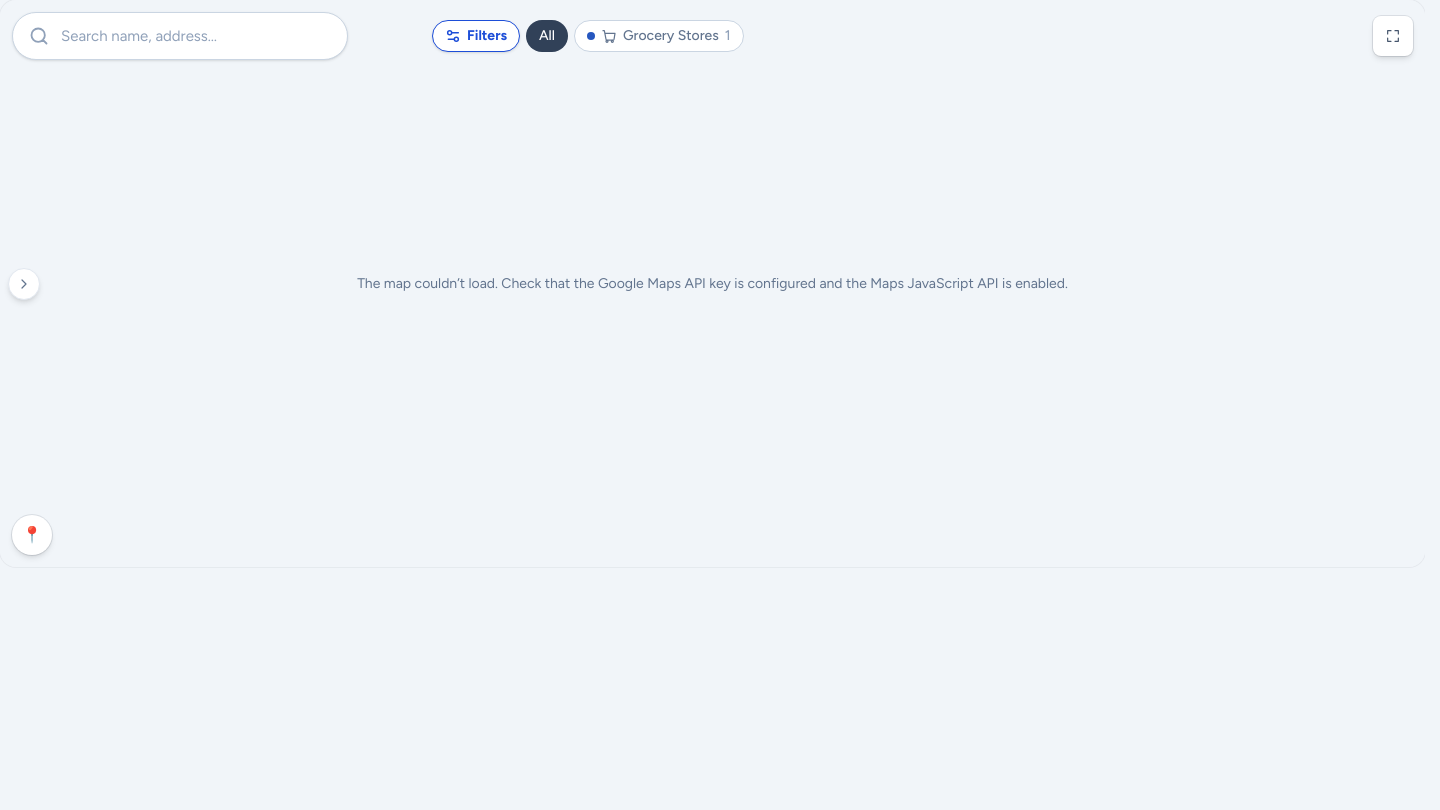
Test: ResourceMapView — search autocomplete › clicking "Open now" switches Open now on and empties the box, closing the dropdown
This screenshot has width=1440, height=810.
Click the field with placeholder "Search name, address…" at [190, 36], box [49,25,331,47]
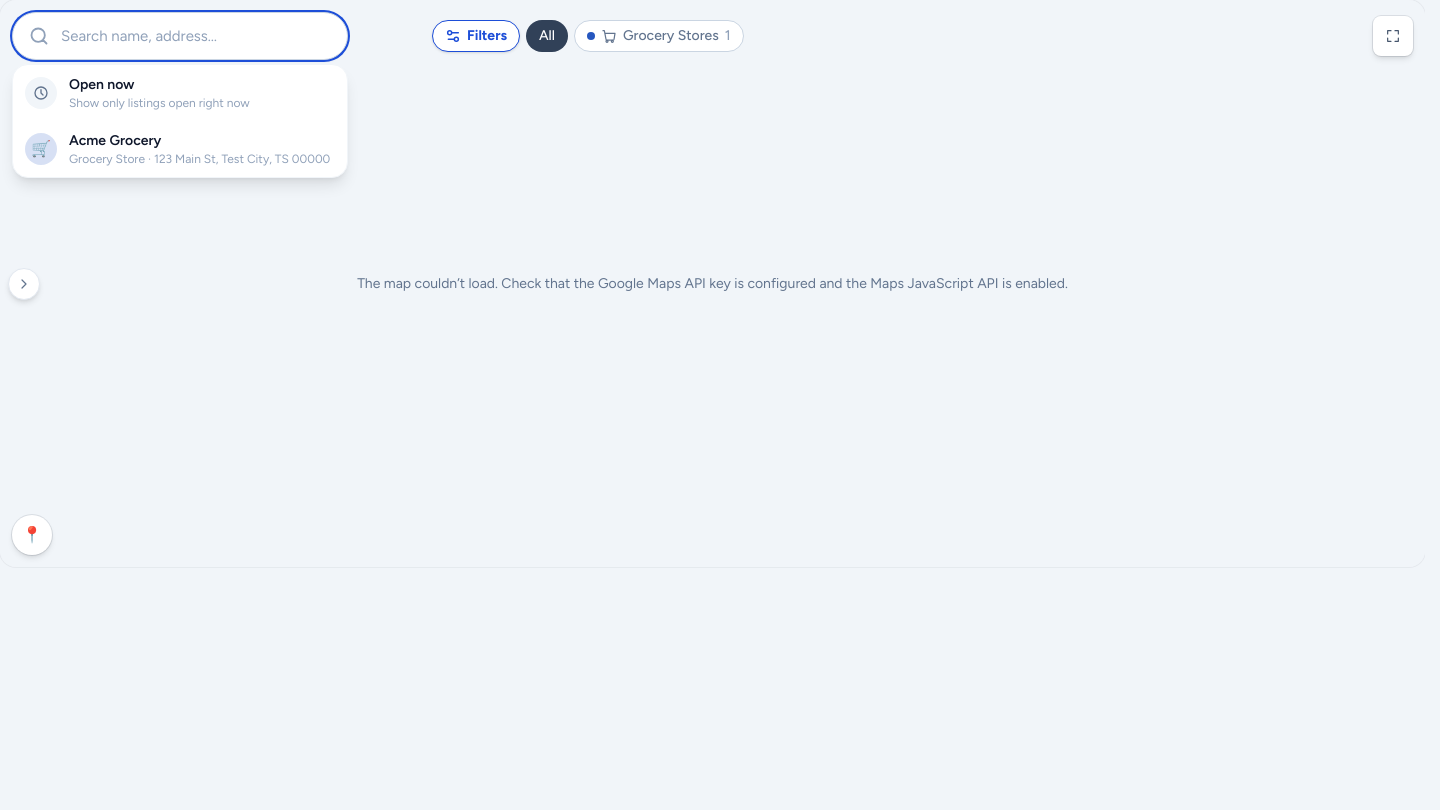
Click the text "Open now" at [102, 84], box [69,76,134,93]
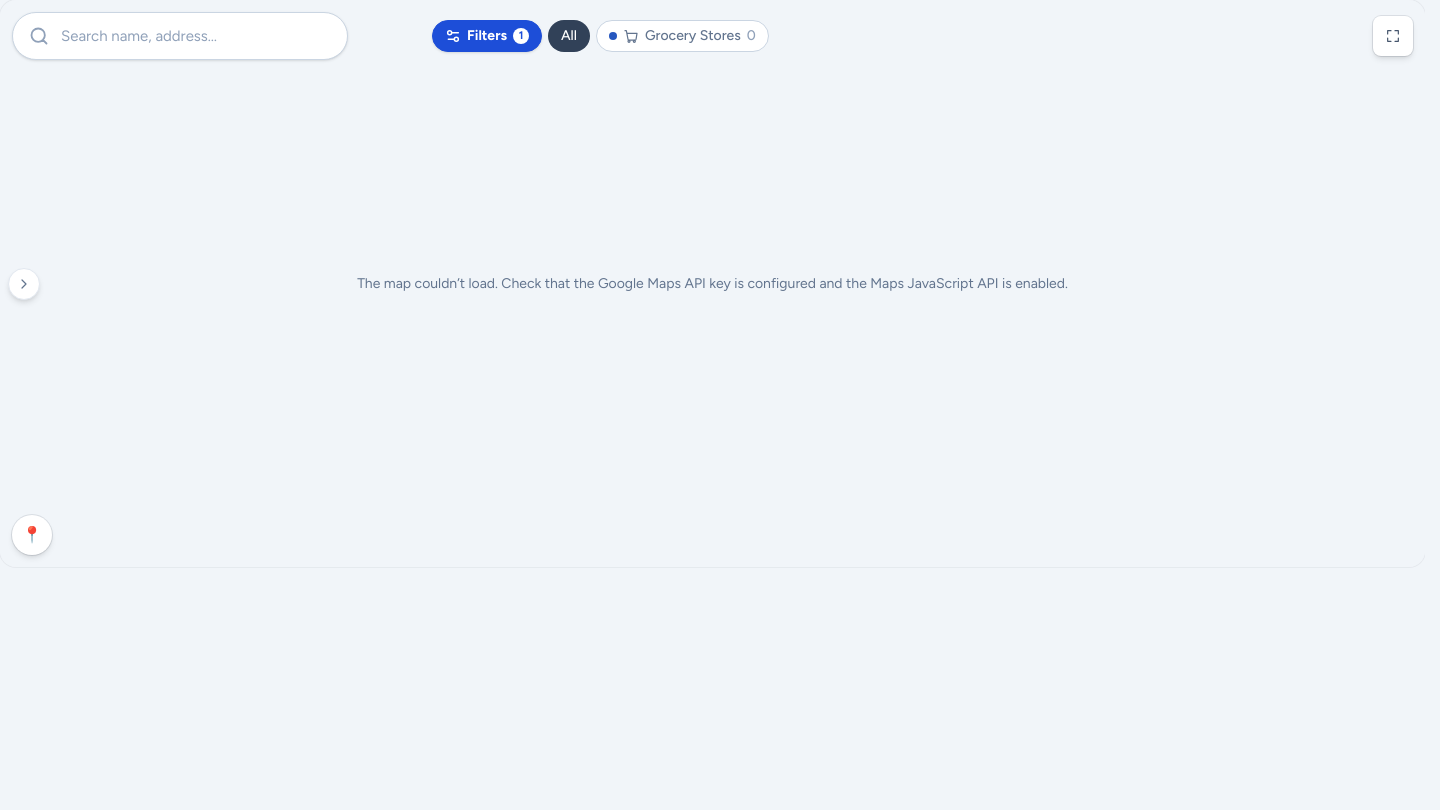
Expected: the field with placeholder "Search name, address…" is empty, [49,25,331,47]
Now the button "Show only listings open right now" is gone
